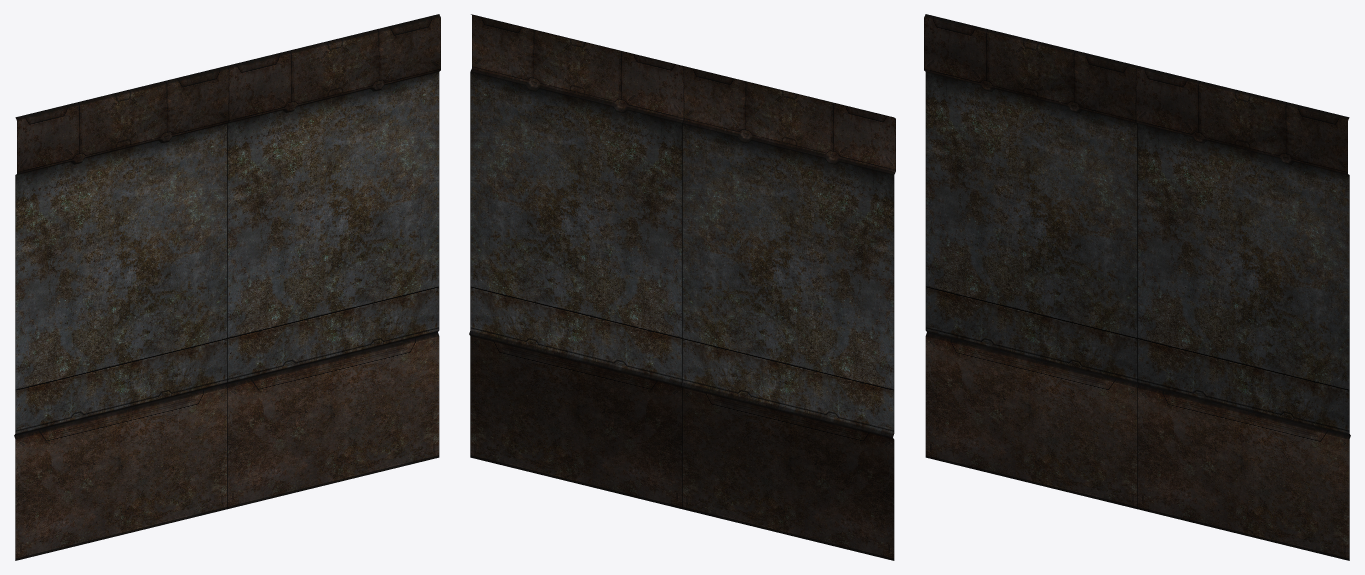
Rendered from datasite_flat01_brown_overgrown.dae.
3 renders of one model, left to right at view 1: azimuth 30°, elevation 25°; view 2: azimuth 150°, elevation 25°; view 3: azimuth 330°, elevation 25°, orthographic.
Visible parts, largest first — view 1: polySurface134; view 2: polySurface134; view 3: polySurface134.
Boxes of the visible parts, x1,y1,x2,y2 form: polySurface134: [14, 14, 440, 560]; polySurface134: [469, 14, 895, 560]; polySurface134: [924, 14, 1350, 560].
Bounding box in the file's own units: 4 × 4 × 0.0483.
